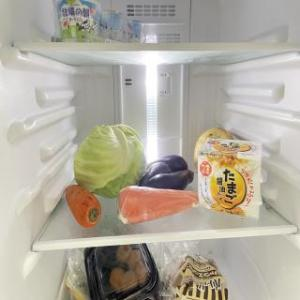cabbage: (73, 122, 146, 198)
carrot: (118, 185, 198, 225), (66, 183, 100, 228)
eggplant: (147, 170, 193, 194), (154, 154, 190, 176), (138, 162, 169, 186)
onion: (194, 126, 235, 170)
